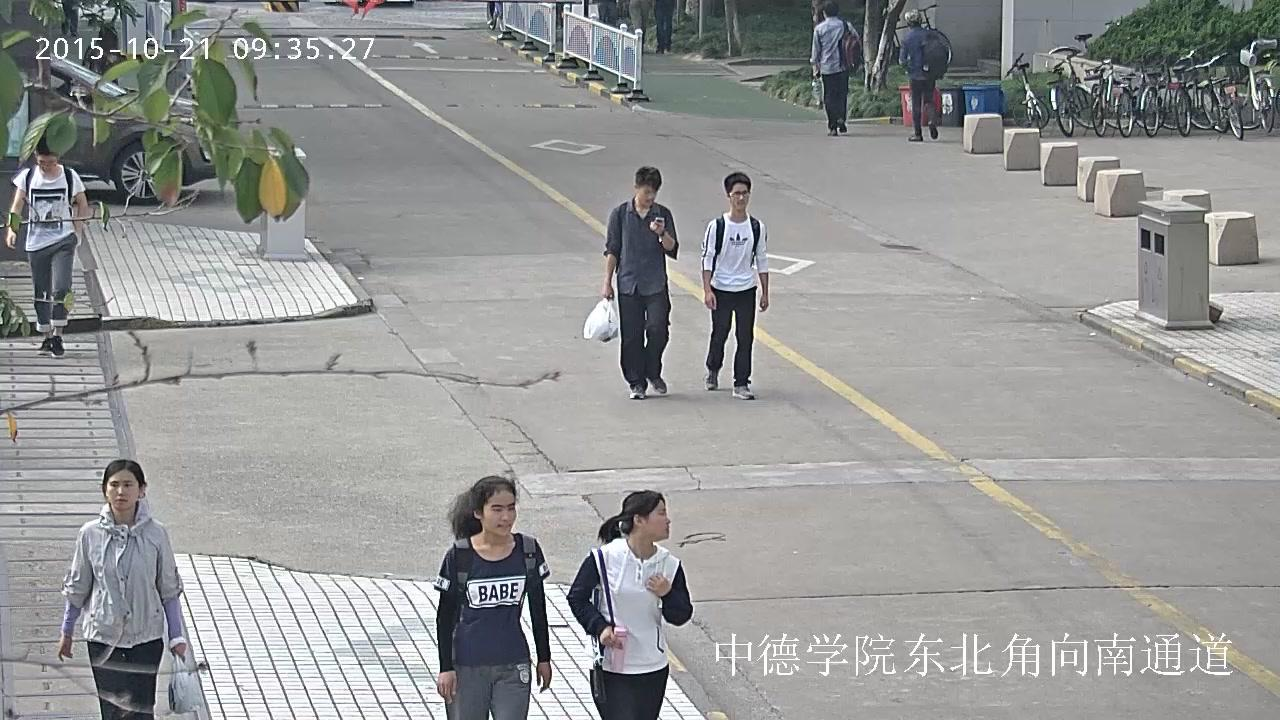face: (481, 491, 516, 536), (106, 470, 137, 510), (642, 501, 670, 539), (731, 183, 748, 210), (37, 154, 57, 174), (637, 185, 656, 206)
